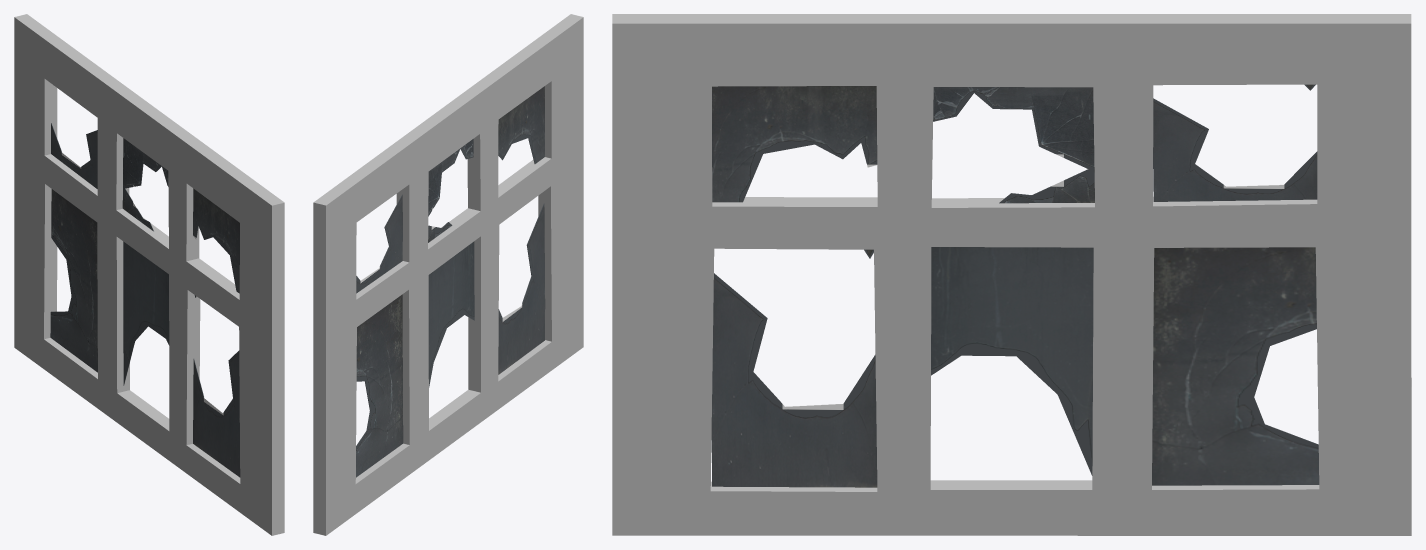
Rendered from Windows_Big_01.fbx.
3 renders of one model, left to right at view 1: azimuth 30°, elevation 25°; view 2: azimuth 150°, elevation 25°; view 3: azimuth 270°, elevation 25°, orthographic. The views are drawn at different scales.
Visible parts, largest first — view 1: Windows_Big_01, Windows_Big_01glass (×6); view 2: Windows_Big_01, Windows_Big_01glass (×6); view 3: Windows_Big_01, Windows_Big_01glass (×6).
Boxes of the visible parts, x1,y1,x2,y2 form: Windows_Big_01: (14, 14, 284, 535); Windows_Big_01glass (×6): (50, 123, 240, 477); Windows_Big_01: (313, 14, 583, 535); Windows_Big_01glass (×6): (356, 86, 545, 477); Windows_Big_01: (612, 14, 1411, 535); Windows_Big_01glass (×6): (711, 84, 1319, 487).
Size of the model in its own units: 6.18 by 216 by 153.
